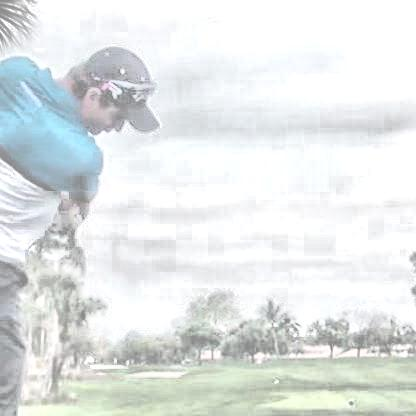golfball: (316, 316, 325, 325)
